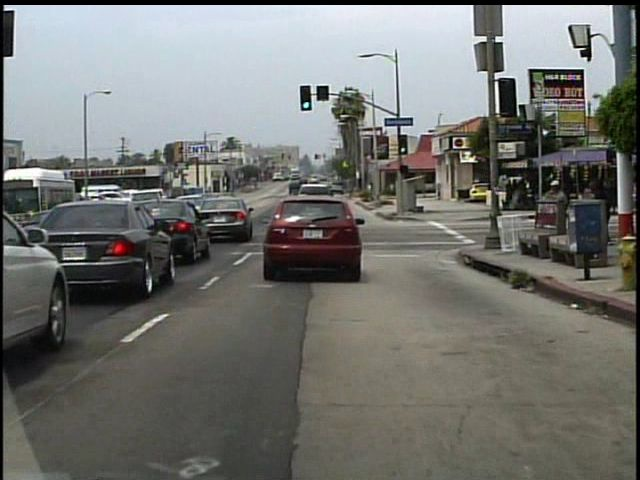person: (539, 175, 569, 252), (592, 179, 610, 245)
